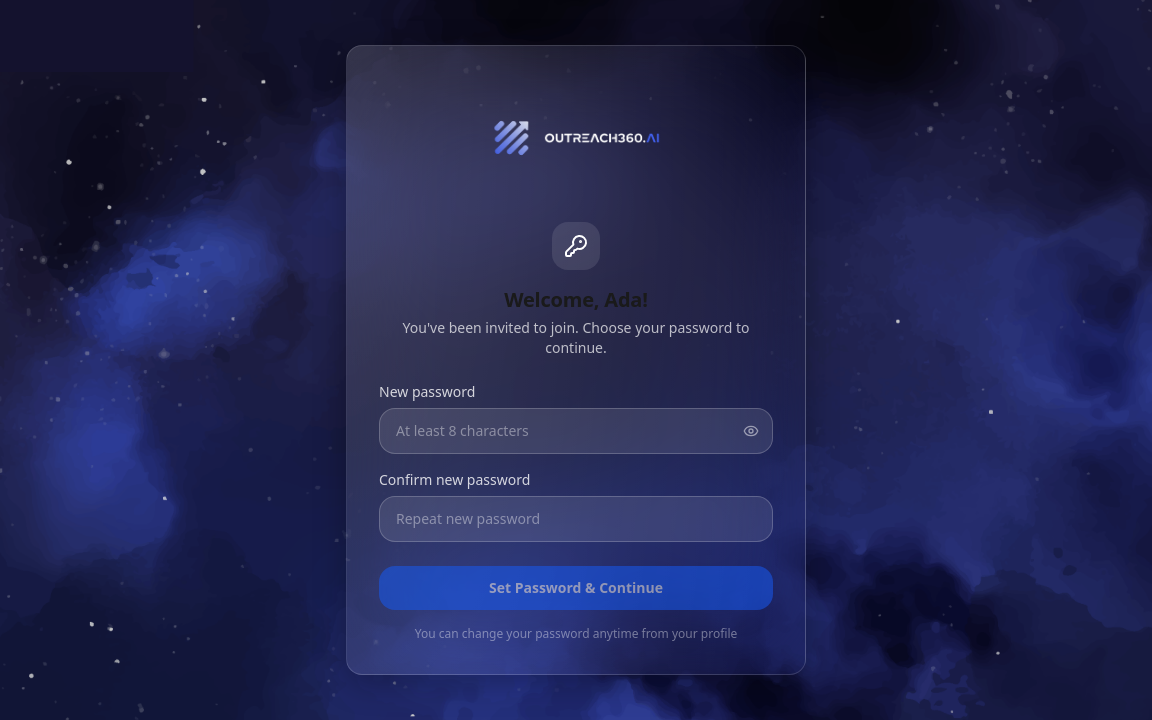
Test: SetPassword page › shows progress while saving
The image size is (1152, 720).
Type "longpassword" into the password field with placeholder "At least 8 characters" at coordinates (576, 431), box [379,408,773,454]
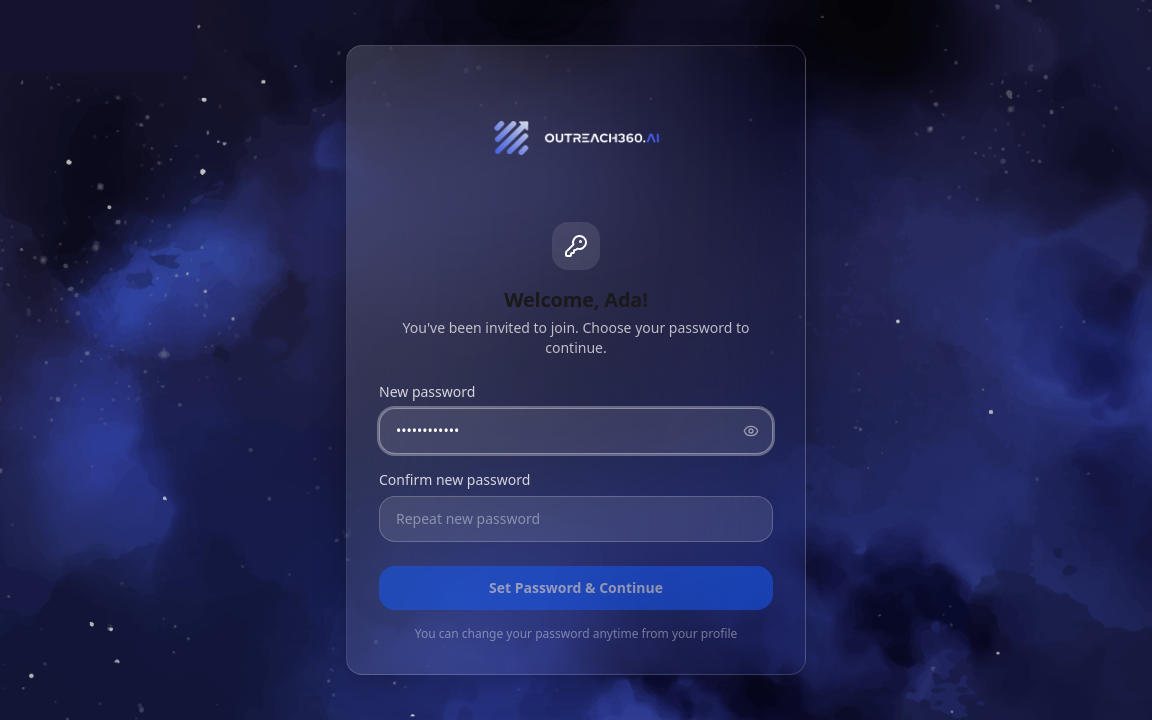
Type "longpassword" into the password field with placeholder "Repeat new password" at coordinates (576, 519), box [379,496,773,542]
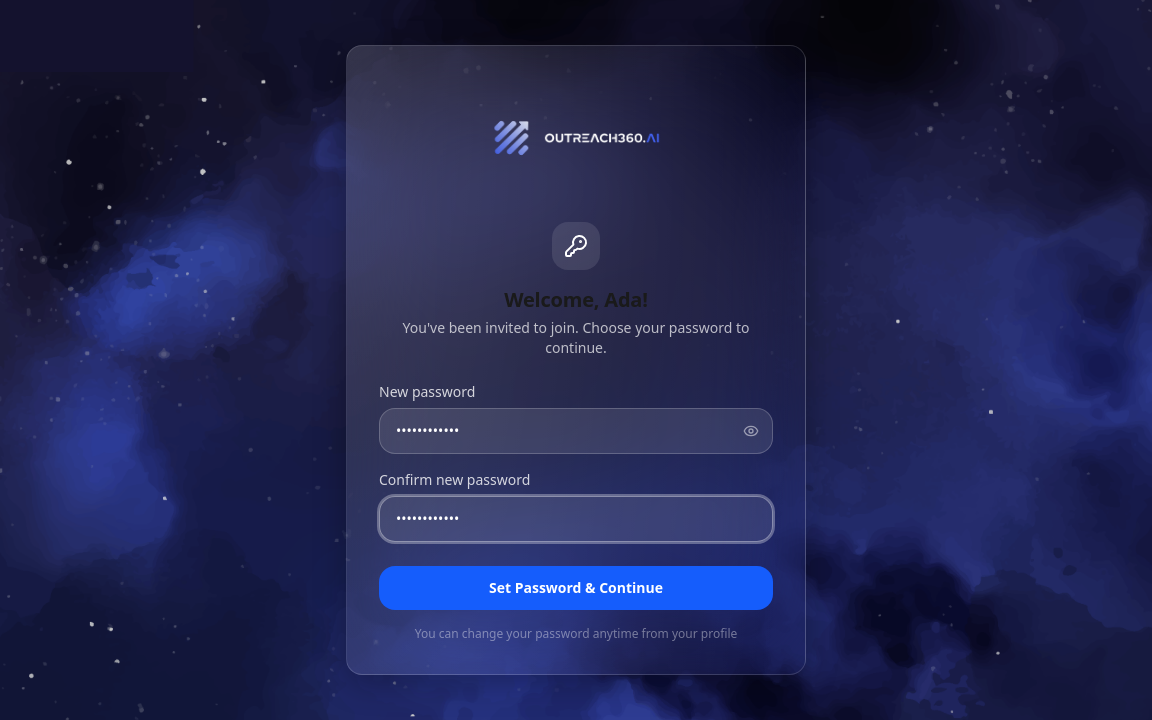
Click the button "Set Password & Continue" at coordinates (576, 588), box [379,566,773,610]
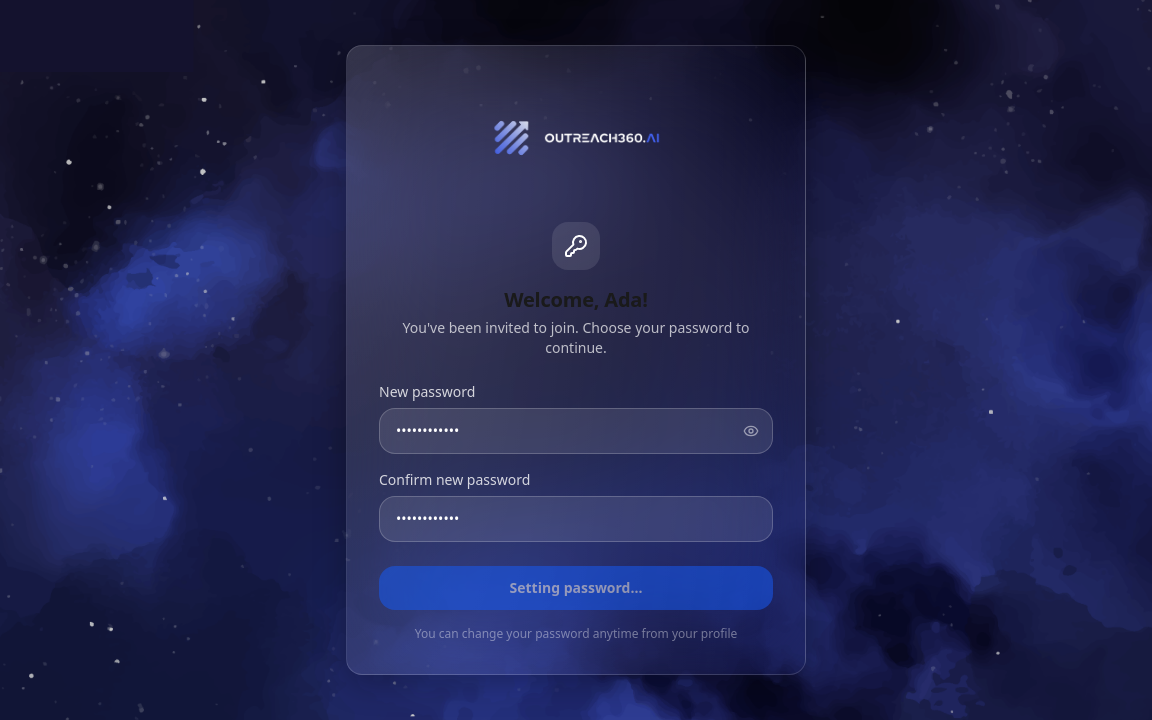
Expected: the button "Setting password..." is disabled, [379,566,773,610]
